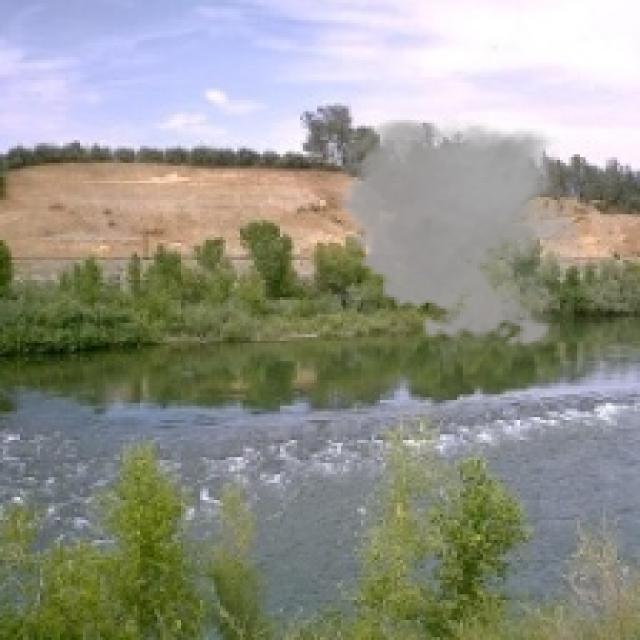Smoke: (326, 108, 594, 354)
